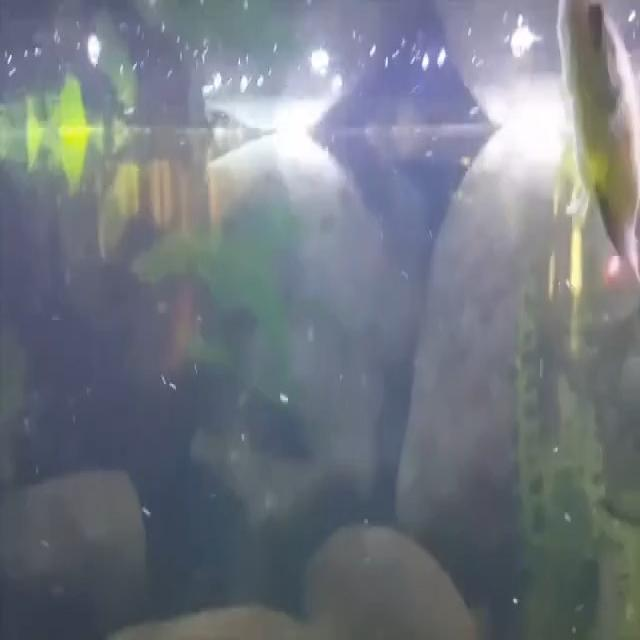fish: (542, 1, 640, 341)
